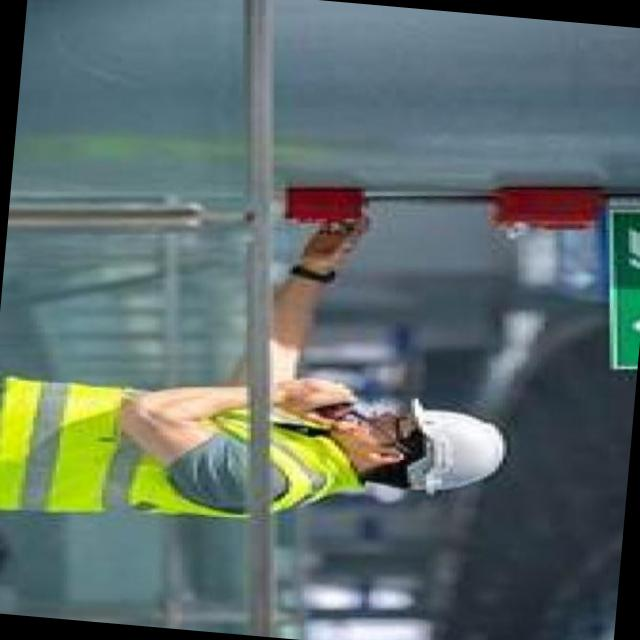not-gloved: (283, 202, 387, 280), (271, 364, 364, 431)
